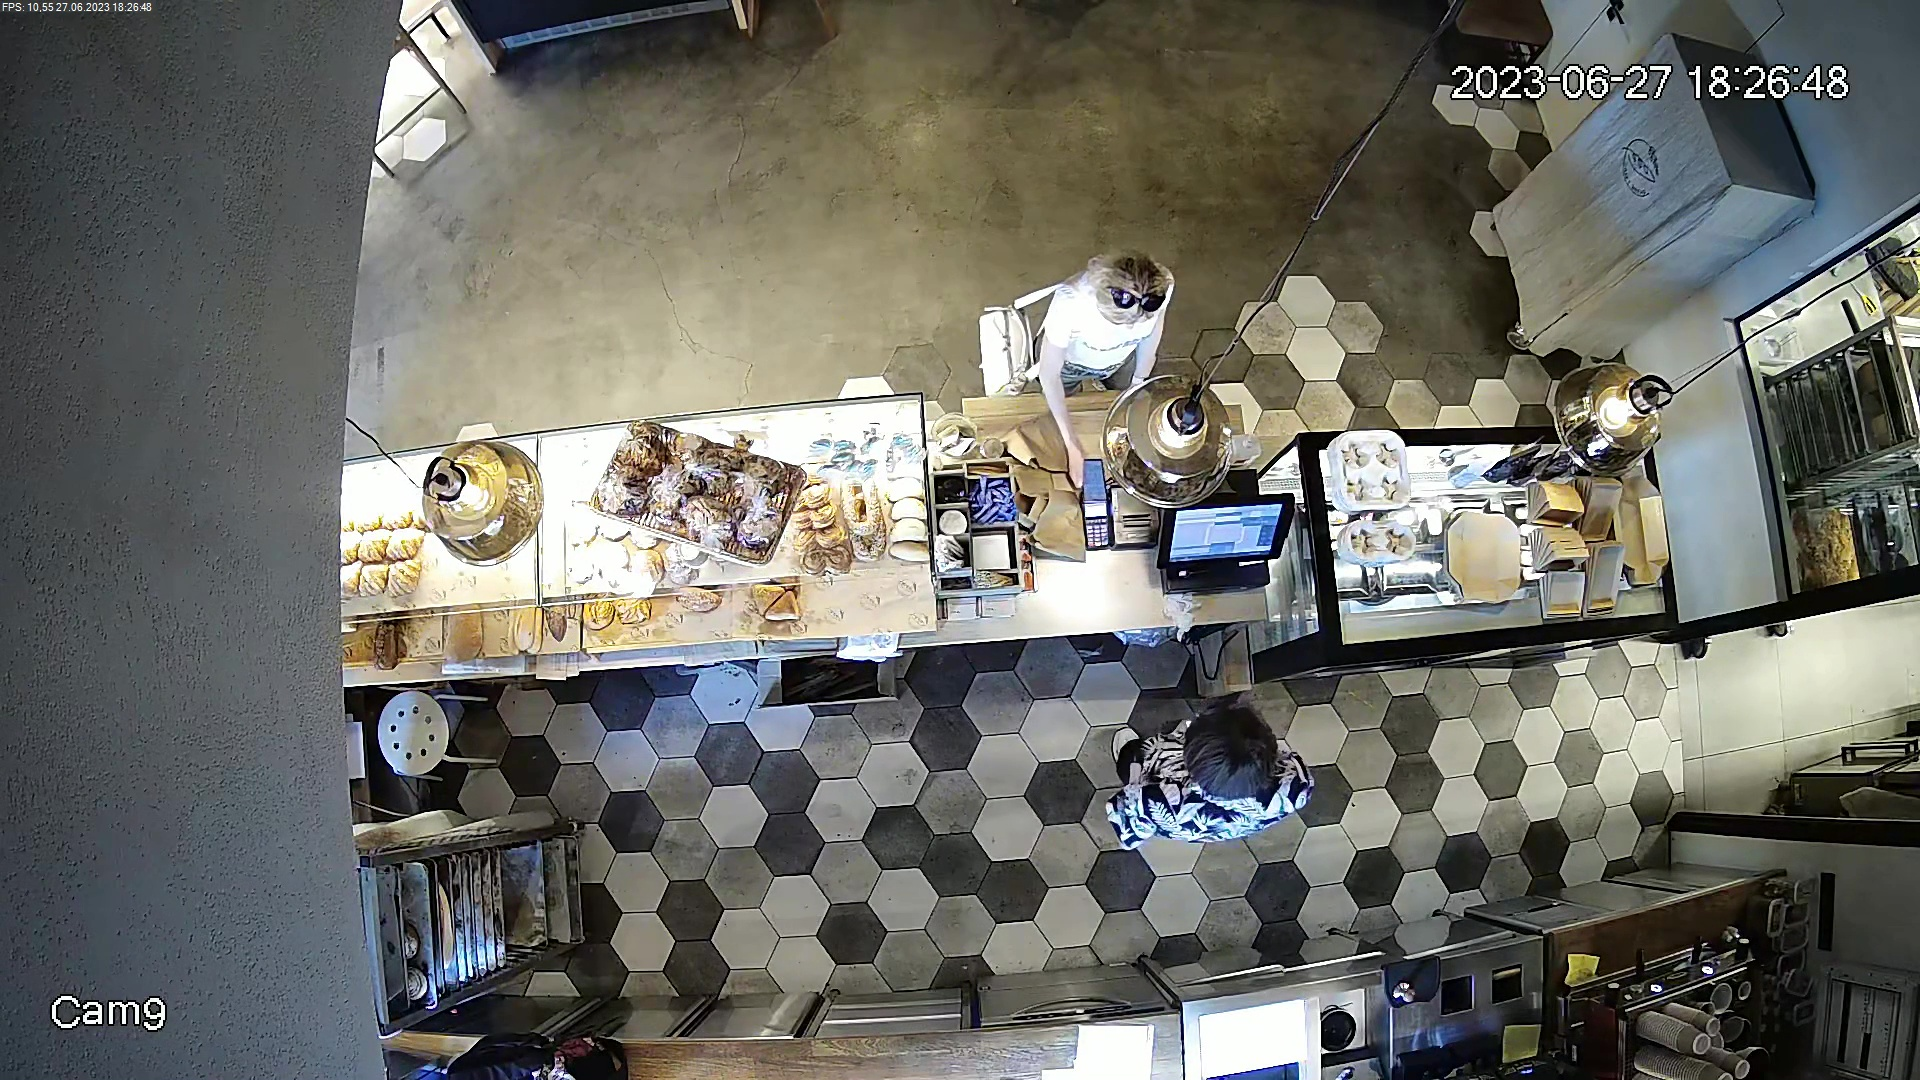pack: (1014, 489, 1089, 565)
person: (962, 221, 1184, 453), (1096, 680, 1340, 886)
terminal: (1061, 438, 1113, 551)
